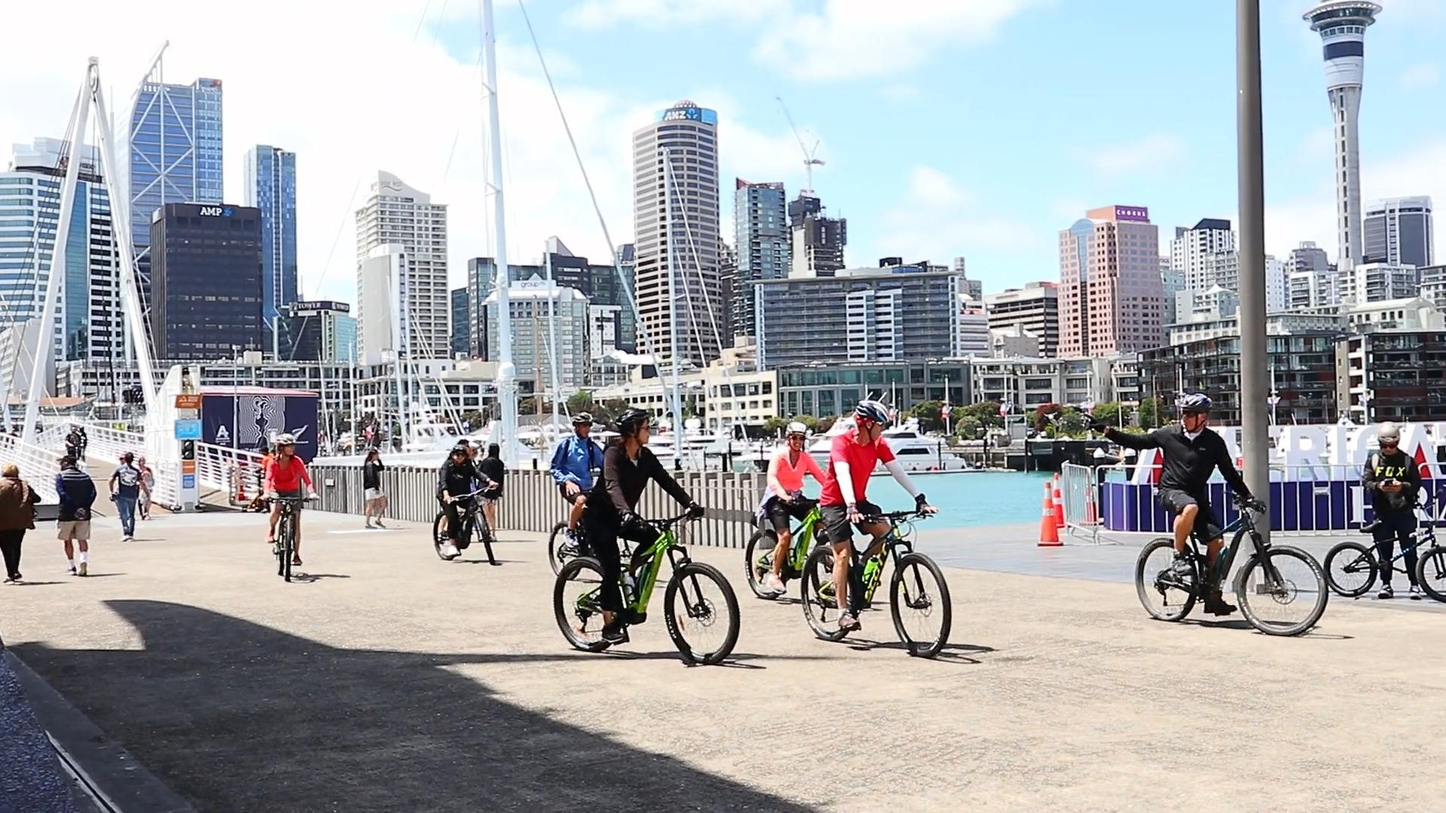bicyclist: (1085, 392, 1328, 636), (553, 408, 740, 665), (801, 401, 951, 659), (744, 421, 826, 601), (258, 434, 321, 582), (433, 444, 499, 565)
helmet: (614, 408, 651, 448), (1178, 392, 1213, 434), (854, 401, 889, 442), (1377, 421, 1401, 456), (785, 421, 807, 452), (573, 412, 593, 440), (276, 433, 294, 458)
